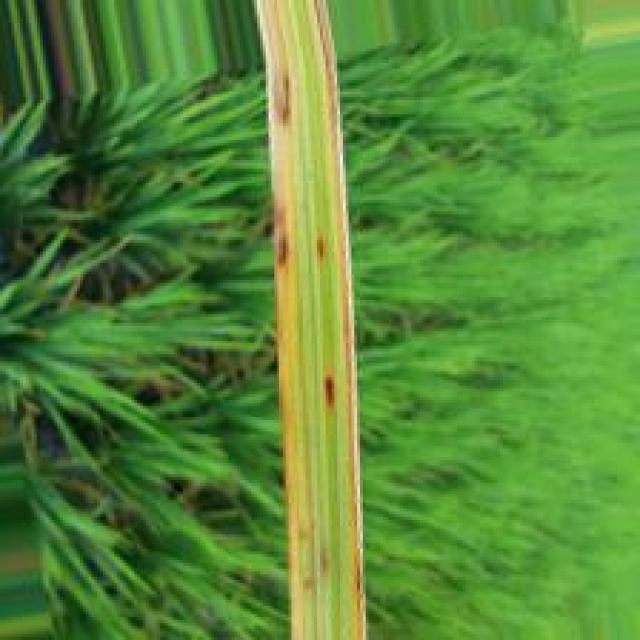Brown_Spot: (269, 66, 294, 131), (275, 192, 291, 270), (350, 543, 363, 607), (322, 364, 337, 414), (310, 227, 327, 264)
